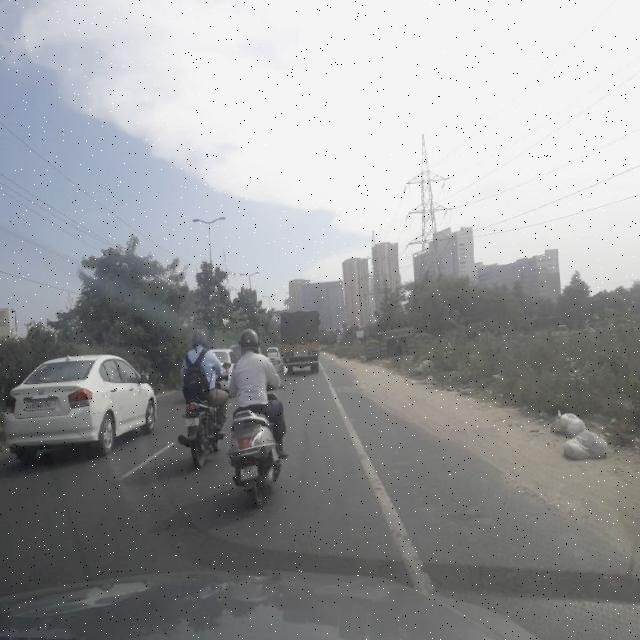D00: (292, 410, 314, 514)
